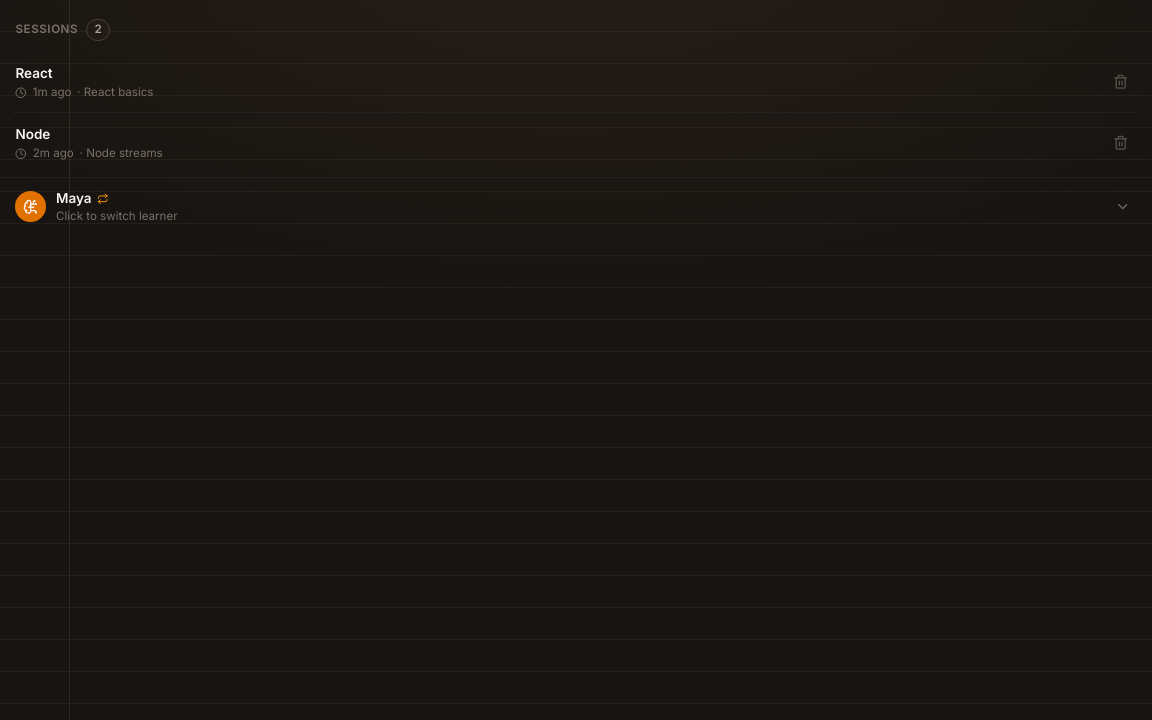
Test: Sidebar › reveals saved-session stats from the profile panel
The width and height of the screenshot is (1152, 720).
Click the button named "Show profile stats" at (1123, 207), box [1110, 193, 1137, 220]
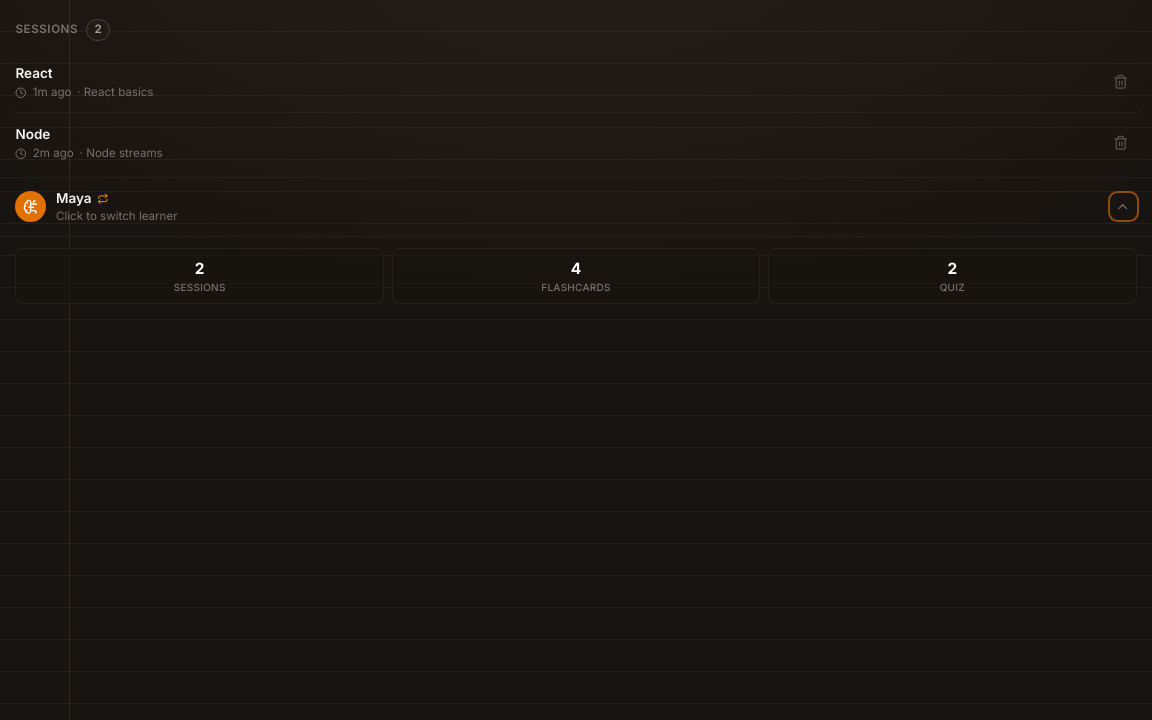
Expected: the text "Sessions" is shown 2 times, [15, 22, 78, 38]; [174, 281, 226, 293]
Result: the text "4" is shown at [571, 259, 581, 278]
